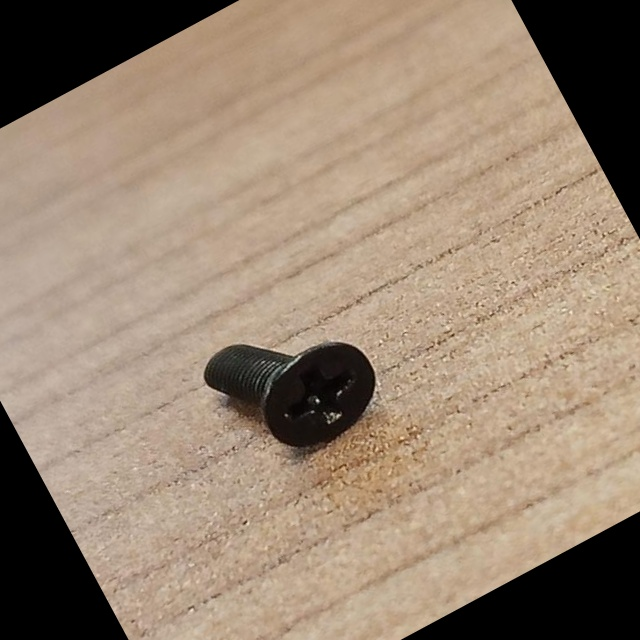phillips: (242, 324, 395, 465)
